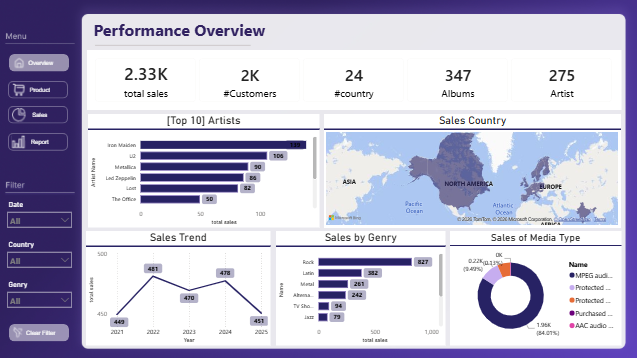

What the dashboard file says about the page in this screenshot:
{"tool":"powerbi","page":{"name":"Overview","canvas":[1280,720],"ordinal":0},"visuals":[{"type":"actionButton","box":[19.4,108.3,120,35],"z":0},{"type":"actionButton","box":[18.8,161.2,120,35],"z":1000},{"type":"actionButton","box":[18.9,212.8,120,35],"z":2000},{"type":"actionButton","box":[18.9,266.7,120,35.6],"z":3000},{"type":"actionButton","box":[19.2,648.3,120,35],"z":4000},{"type":"textbox","box":[184.3,32.9,358.6,65.7],"z":5000},{"type":"cardVisual","fields":{"Data":["Dax Measures.total salesss","Dax Measures.#Customers","Dax Measures.#country","Dax Measures.Artist","Dax Measures.Artist1"]},"box":[175.7,100,1068.6,120],"z":6000},{"type":"lineChart","title":"Sales Trend","fields":{"Category":["invoice.InvoiceDate.Variation.Date Hierarchy.Year","invoice.InvoiceDate.Variation.Date Hierarchy.Quarter","invoice.InvoiceDate.Variation.Date Hierarchy.Month","invoice.InvoiceDate.Variation.Date Hierarchy.Day"],"Y":["Dax Measures.total sales"]},"box":[174.3,461.4,368.6,228.6],"z":7000},{"type":"barChart","title":"Sales by Genry","fields":{"Category":["genre.Name"],"Y":["Dax Measures.total sales"]},"box":[553.3,461.1,338.9,228.9],"z":8000},{"type":"barChart","title":"[Top 10] Artists","fields":{"Category":["artist.Name"],"Y":["Dax Measures.total sales"]},"box":[177.3,227.3,462.7,226.7],"z":9000},{"type":"donutChart","title":"Sales of Media Type","fields":{"Category":["mediatype.Name"],"Y":["Dax Measures.total sales"]},"box":[901.2,461.2,342.5,228.8],"z":10000},{"type":"filledMap","title":"Sales Country","fields":{"Category":["customer.Country"]},"box":[650,227.1,594.3,227.1],"z":11000},{"type":"slicer","fields":{"Values":["employee.HireDate.Variation.Date Hierarchy.Year","employee.HireDate.Variation.Date Hierarchy.Month","employee.HireDate.Variation.Date Hierarchy.Day"]},"box":[5,395,150,66.7],"z":12000},{"type":"slicer","fields":{"Values":["invoice.BillingCountry"]},"box":[5.7,475.7,150,67.1],"z":13000},{"type":"slicer","fields":{"Values":["genre.Name"]},"box":[5.7,555.7,150,62.9],"z":14000}]}

Visuals, with their boxes on the page's 1280x720 design canvas (x1, y1, x2, y2). These are canvas units, not pixel positions in the 637x358 screenshot, which may show the page scaled, cropped or inside an application window:
actionButton: left=19, top=108, right=139, bottom=143
actionButton: left=19, top=161, right=139, bottom=196
actionButton: left=19, top=213, right=139, bottom=248
actionButton: left=19, top=267, right=139, bottom=302
actionButton: left=19, top=648, right=139, bottom=683
textbox: left=184, top=33, right=543, bottom=99
cardVisual - Dax Measures.total salesss x Dax Measures.#Customers: left=176, top=100, right=1244, bottom=220
"Sales Trend" lineChart: left=174, top=461, right=543, bottom=690
"Sales by Genry" barChart: left=553, top=461, right=892, bottom=690
"[Top 10] Artists" barChart: left=177, top=227, right=640, bottom=454
"Sales of Media Type" donutChart: left=901, top=461, right=1244, bottom=690
"Sales Country" filledMap: left=650, top=227, right=1244, bottom=454
slicer - employee.HireDate.Variation.Date Hierarchy.Year x employee.HireDate.Variation.Date Hierarchy.Month: left=5, top=395, right=155, bottom=462
slicer - invoice.BillingCountry: left=6, top=476, right=156, bottom=543
slicer - genre.Name: left=6, top=556, right=156, bottom=619
